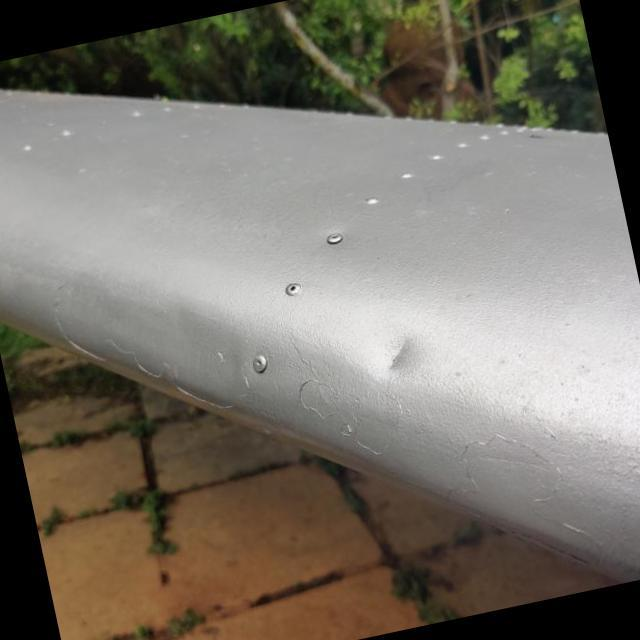Dent: (344, 297, 459, 411)
